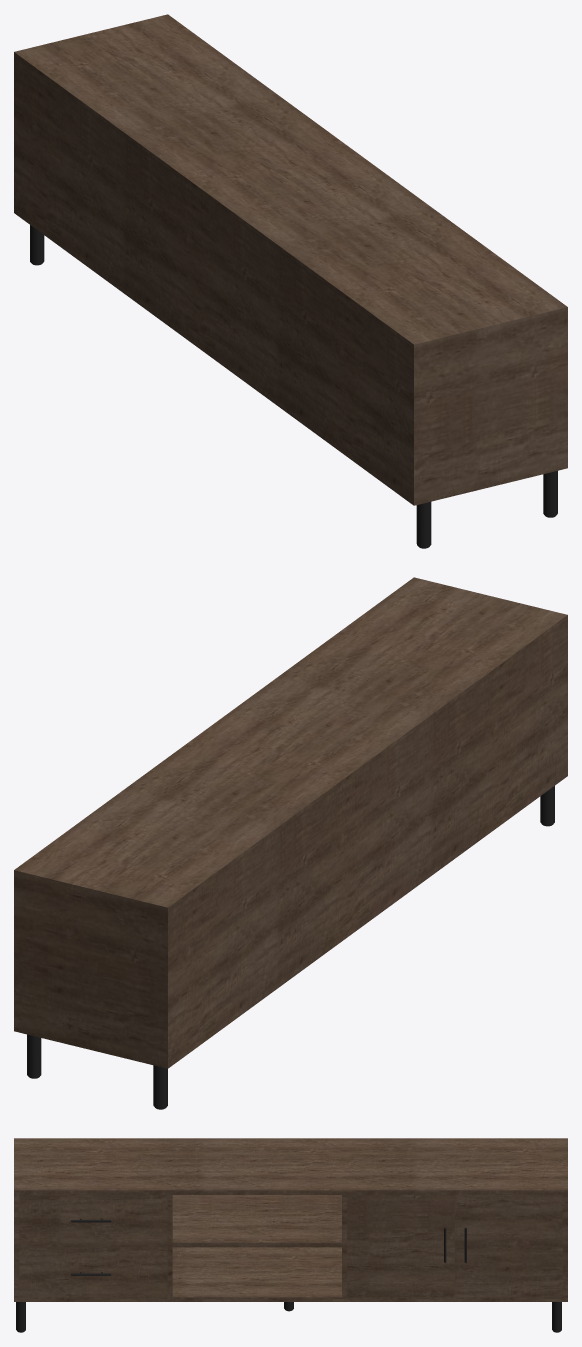
Rendered from ke-tivi-1.glb.
3 views of the same model, one above another, from view 1: azimuth 30°, elevation 25°; view 2: azimuth 150°, elevation 25°; view 3: azimuth 270°, elevation 25° (orthographic). The views are drawn at different scales.
Parts seen in each view (by area): view 1: MAIN, DOOR; view 2: MAIN, DOOR; view 3: MAIN, DOOR.
Boxes of the visible parts, x1,y1,x2,y2 form: MAIN: (14,14,567,505); DOOR: (30,225,557,548); MAIN: (14,577,567,1068); DOOR: (27,786,554,1109); MAIN: (14,1138,567,1301); DOOR: (16,1218,561,1332).
Bounding box in the file's own units: 0.4214 × 0.5192 × 1.8.
Materials: 2 (1 with a texture image).
